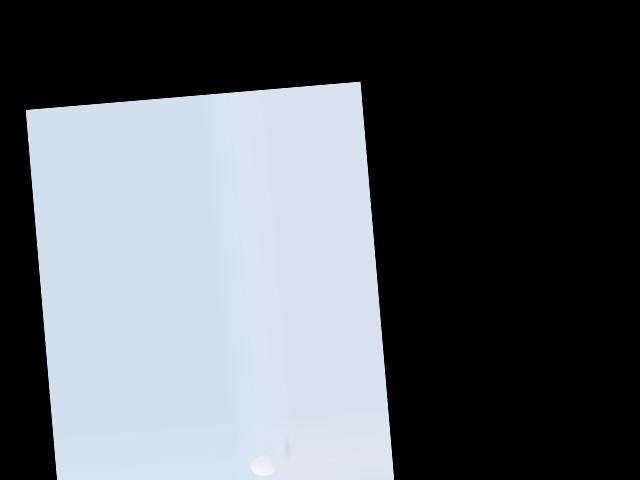egg: (250, 454, 277, 477)
